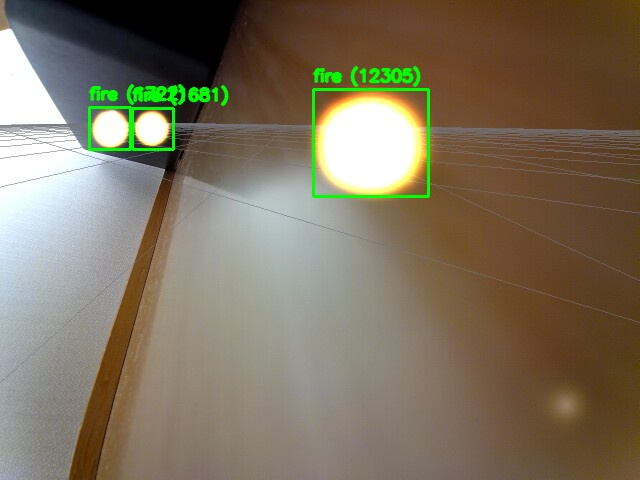fire: (313, 89, 428, 196), (89, 107, 130, 149), (132, 108, 173, 149)
